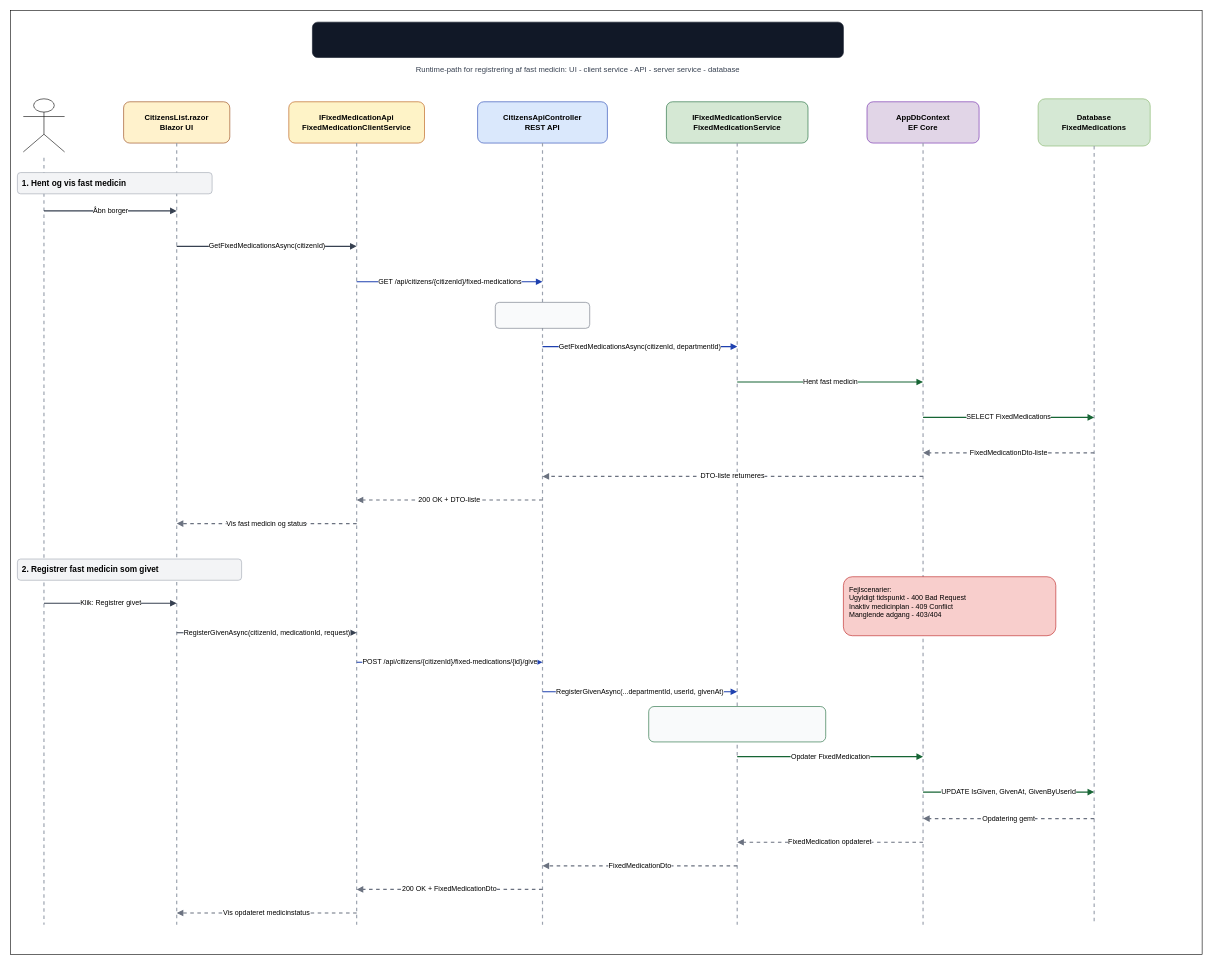
Image size: 1212x965. Some labels were removed from this diagram. The box of each missing label's shape, as (x1, y1, x2, y2) in pixels:
Personale: (23, 98, 65, 152)
Sekvensdiagram - UC04 Registrer fast medicin: (312, 22, 843, 58)
Service validerer: afdeling, aktiv medicinplan og tidspunkt: (648, 706, 826, 742)
Udled bruger og afdeling: (495, 302, 590, 328)
